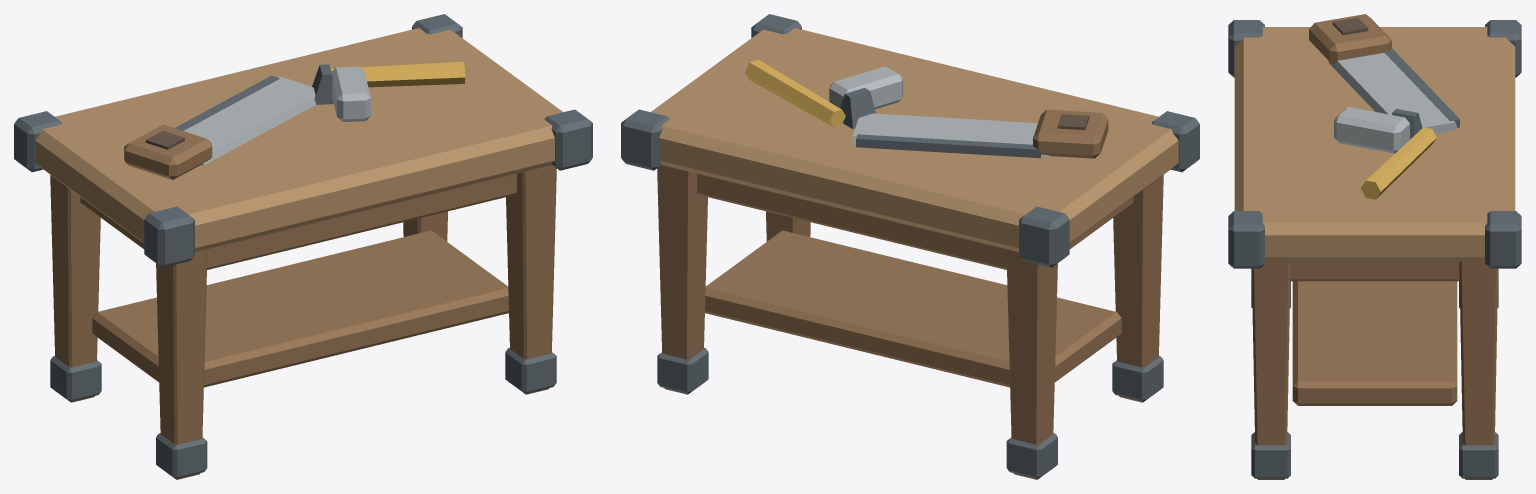
File: BUILD0026_CarpentryCraftTable.fbx
3 views of the same model, side by side, from view 1: azimuth 30°, elevation 25°; view 2: azimuth 150°, elevation 25°; view 3: azimuth 270°, elevation 25° (orthographic).
Parts seen in each view (by area): view 1: BUILD0026_CarpentryCraftTable; view 2: BUILD0026_CarpentryCraftTable; view 3: BUILD0026_CarpentryCraftTable.
Boxes of the visible parts, x1=… form: BUILD0026_CarpentryCraftTable: x1=14, y1=14, x2=592, y2=479; BUILD0026_CarpentryCraftTable: x1=621, y1=14, x2=1199, y2=479; BUILD0026_CarpentryCraftTable: x1=1228, y1=14, x2=1521, y2=479.
Bounding box in the file's own units: 1.62 × 1.07 × 0.96.
